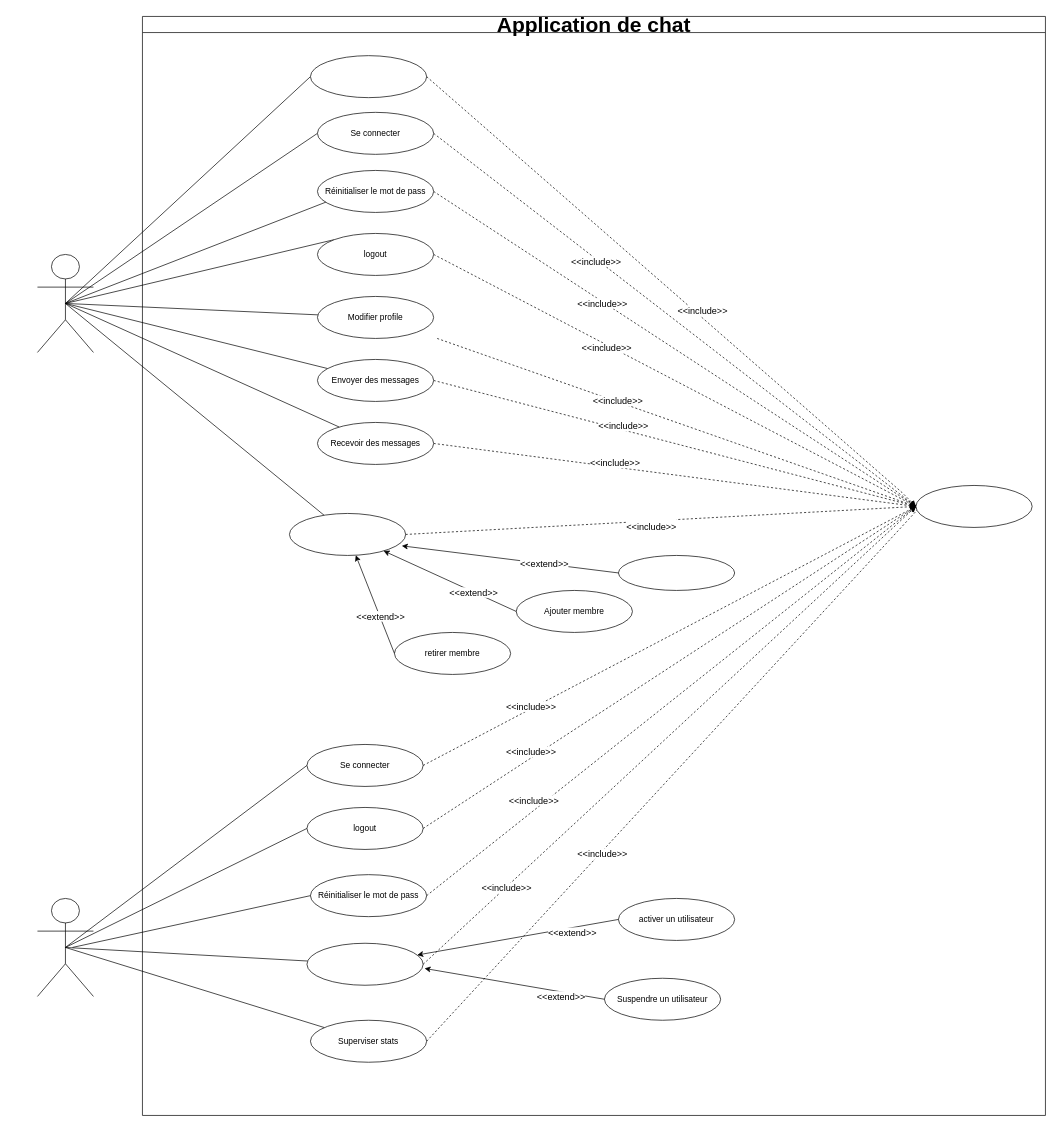
The diagram is 1058 pixels wide and 1128 high, and some of its shapes have lost their labels. The shapes that lost their labels are listed below. From the top down, each one's box as (x1, y1, x2, y2) in pixels, then its label:
(310, 55, 427, 98): S'inscrire
(37, 254, 93, 352): RegisterUser
(915, 485, 1032, 527): S'authentifier
(289, 513, 406, 555): Gérer les groupes
(618, 555, 735, 590): Créer groupe
(37, 898, 93, 996): Admin
(306, 943, 423, 985): Gérer les utilisateurs
